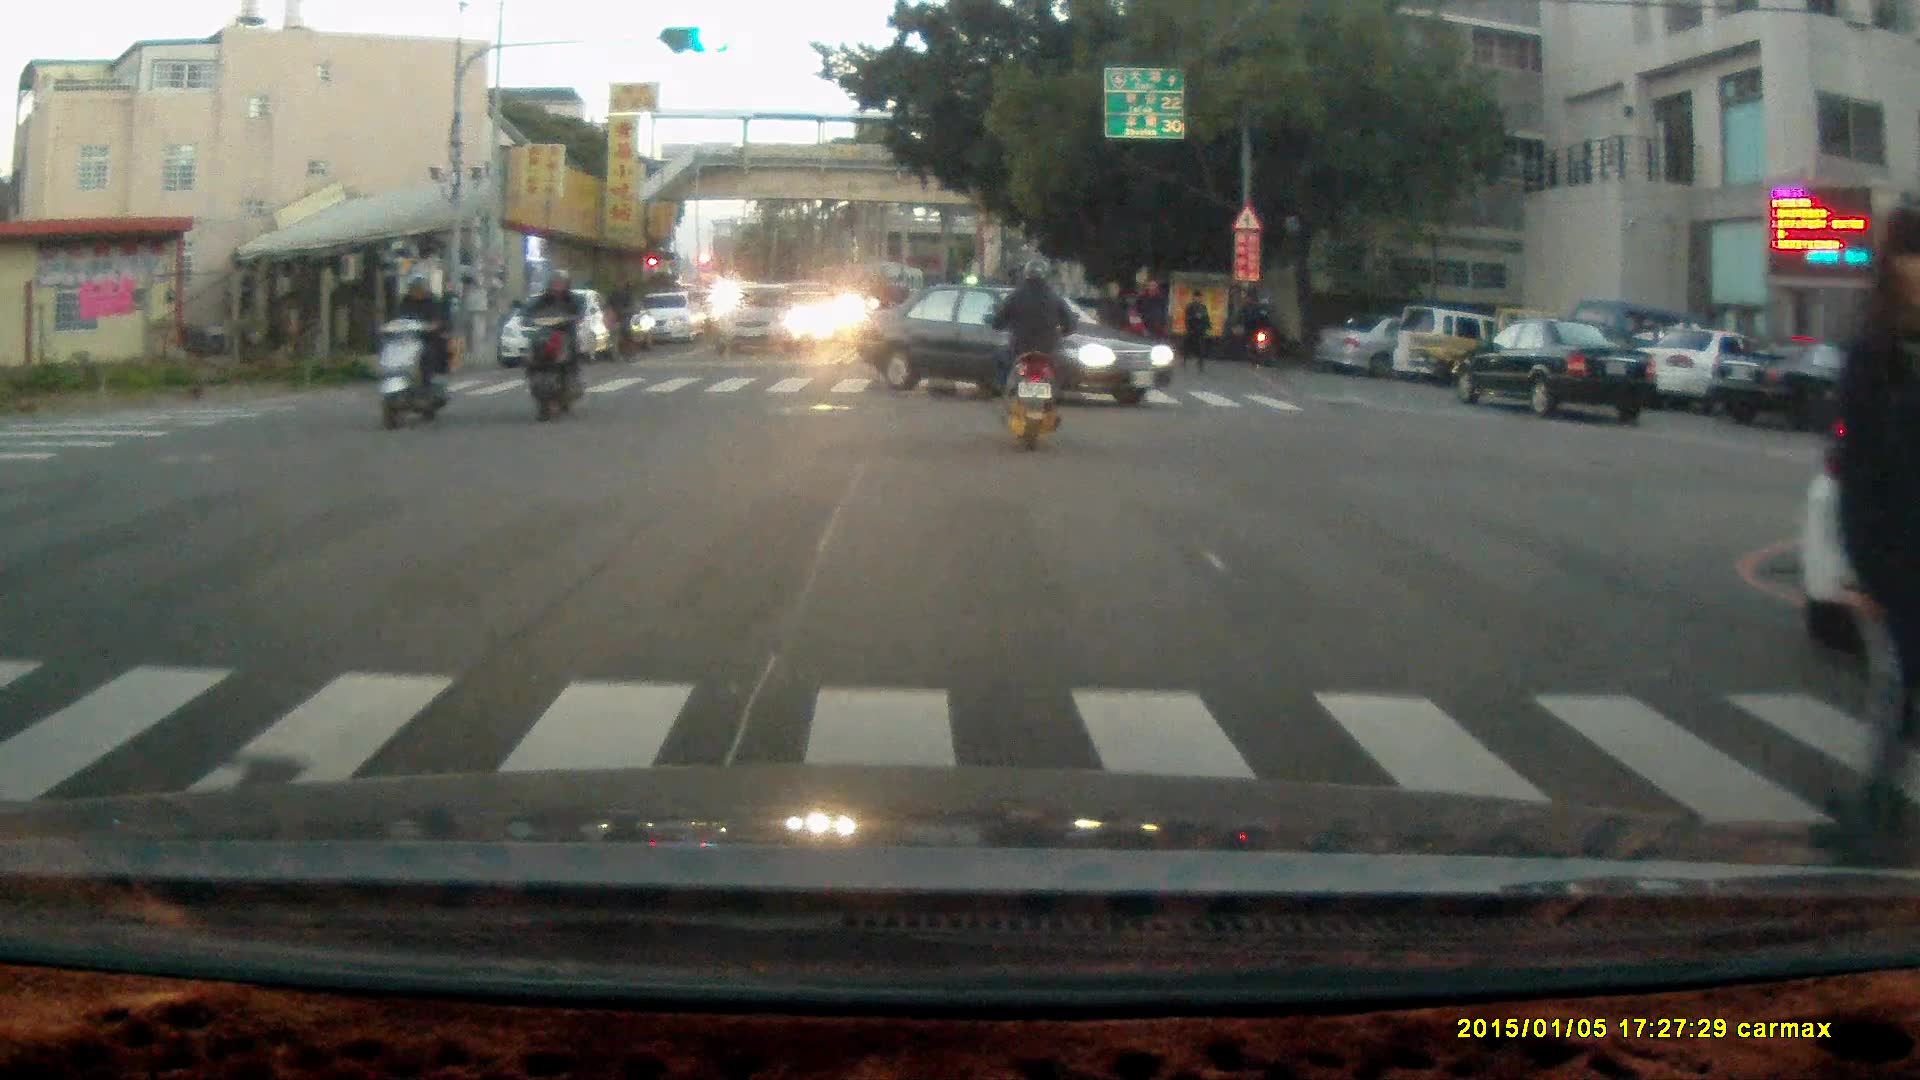pedestrian: (1808, 202, 1920, 849), (1179, 287, 1212, 381), (1131, 276, 1166, 365), (1236, 288, 1267, 365), (1098, 280, 1128, 362)
rider: (991, 253, 1077, 447), (376, 264, 453, 431), (513, 264, 587, 423), (598, 272, 637, 367)
vehicle: (851, 275, 1175, 409), (1459, 316, 1664, 420), (1710, 340, 1897, 438), (1622, 323, 1810, 415), (1313, 311, 1494, 371), (502, 288, 621, 367), (715, 281, 813, 360)
